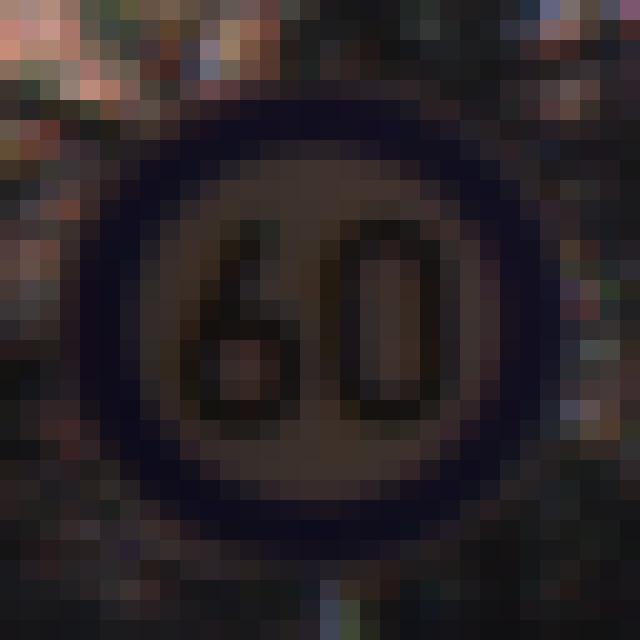SPEED-LIMIT-60: (57, 79, 586, 586)
